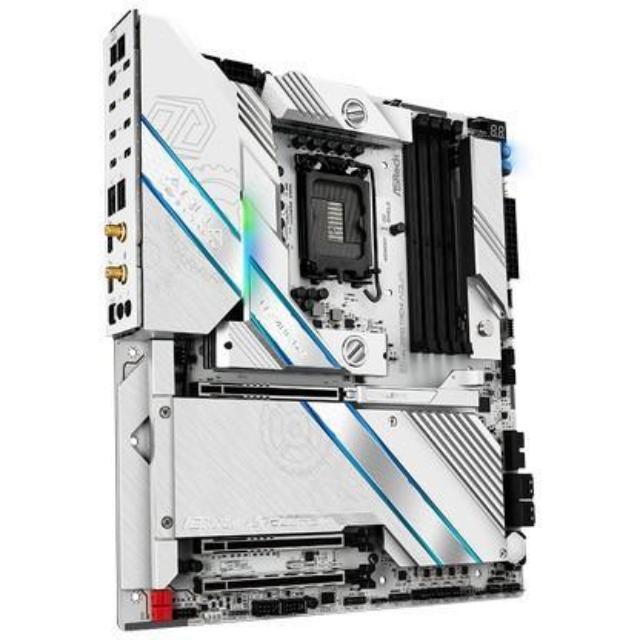Mainboard: (92, 25, 540, 630)
